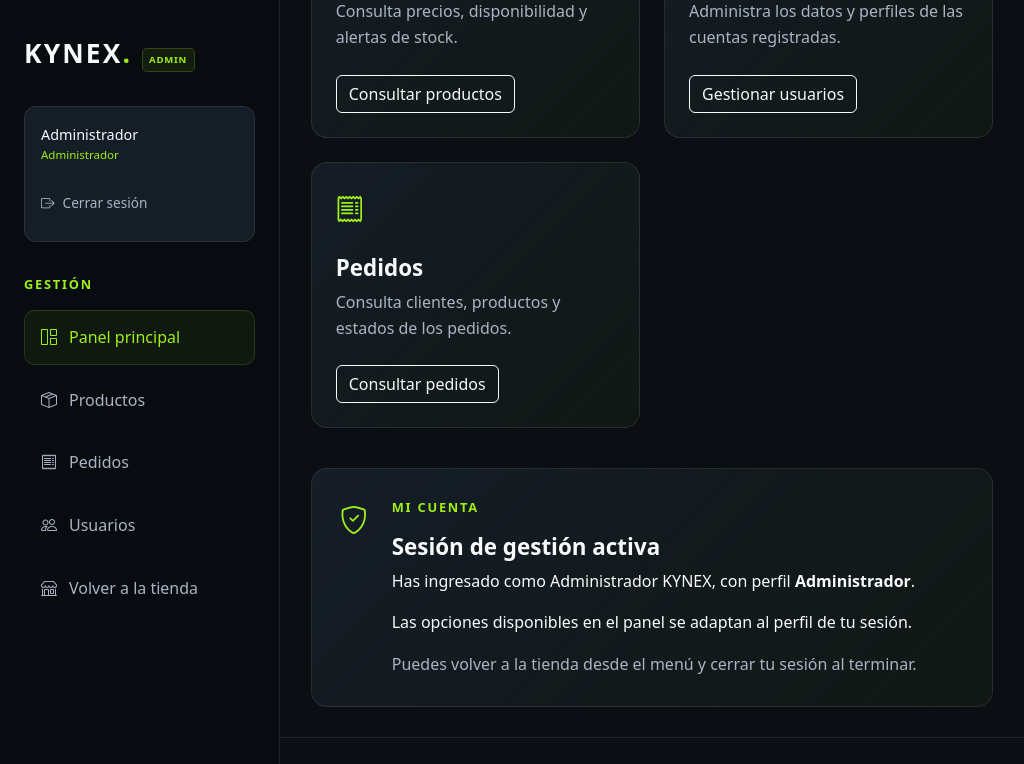
Consulta de pedidos integrada › ofrece los accesos del panel según el perfil de admin@profesor.duoc.cl
(page scrolled)
Step 1. Click the link "Consultar pedidos" → (417, 384), box [336,365,499,403]
(page scrolled)
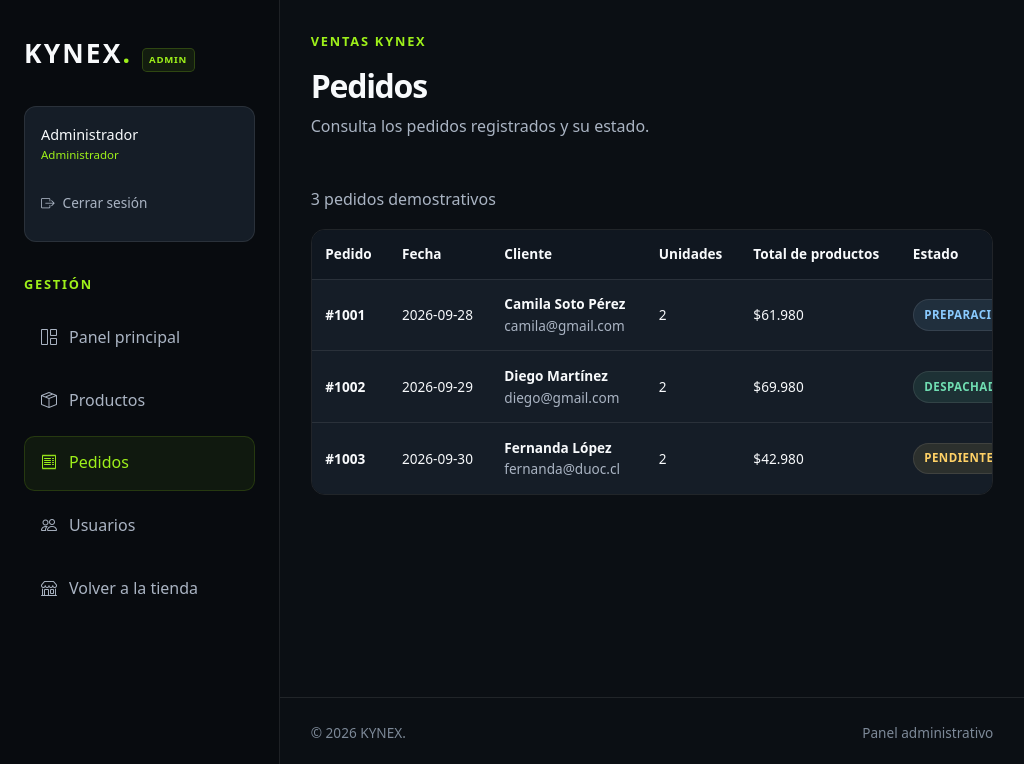
expect the heading "Pedidos" is shown: met, box [311,64,427,107]
